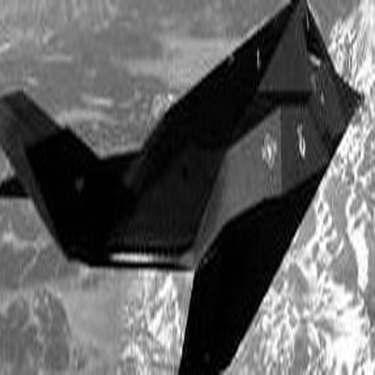airplane: (1, 13, 356, 280)
